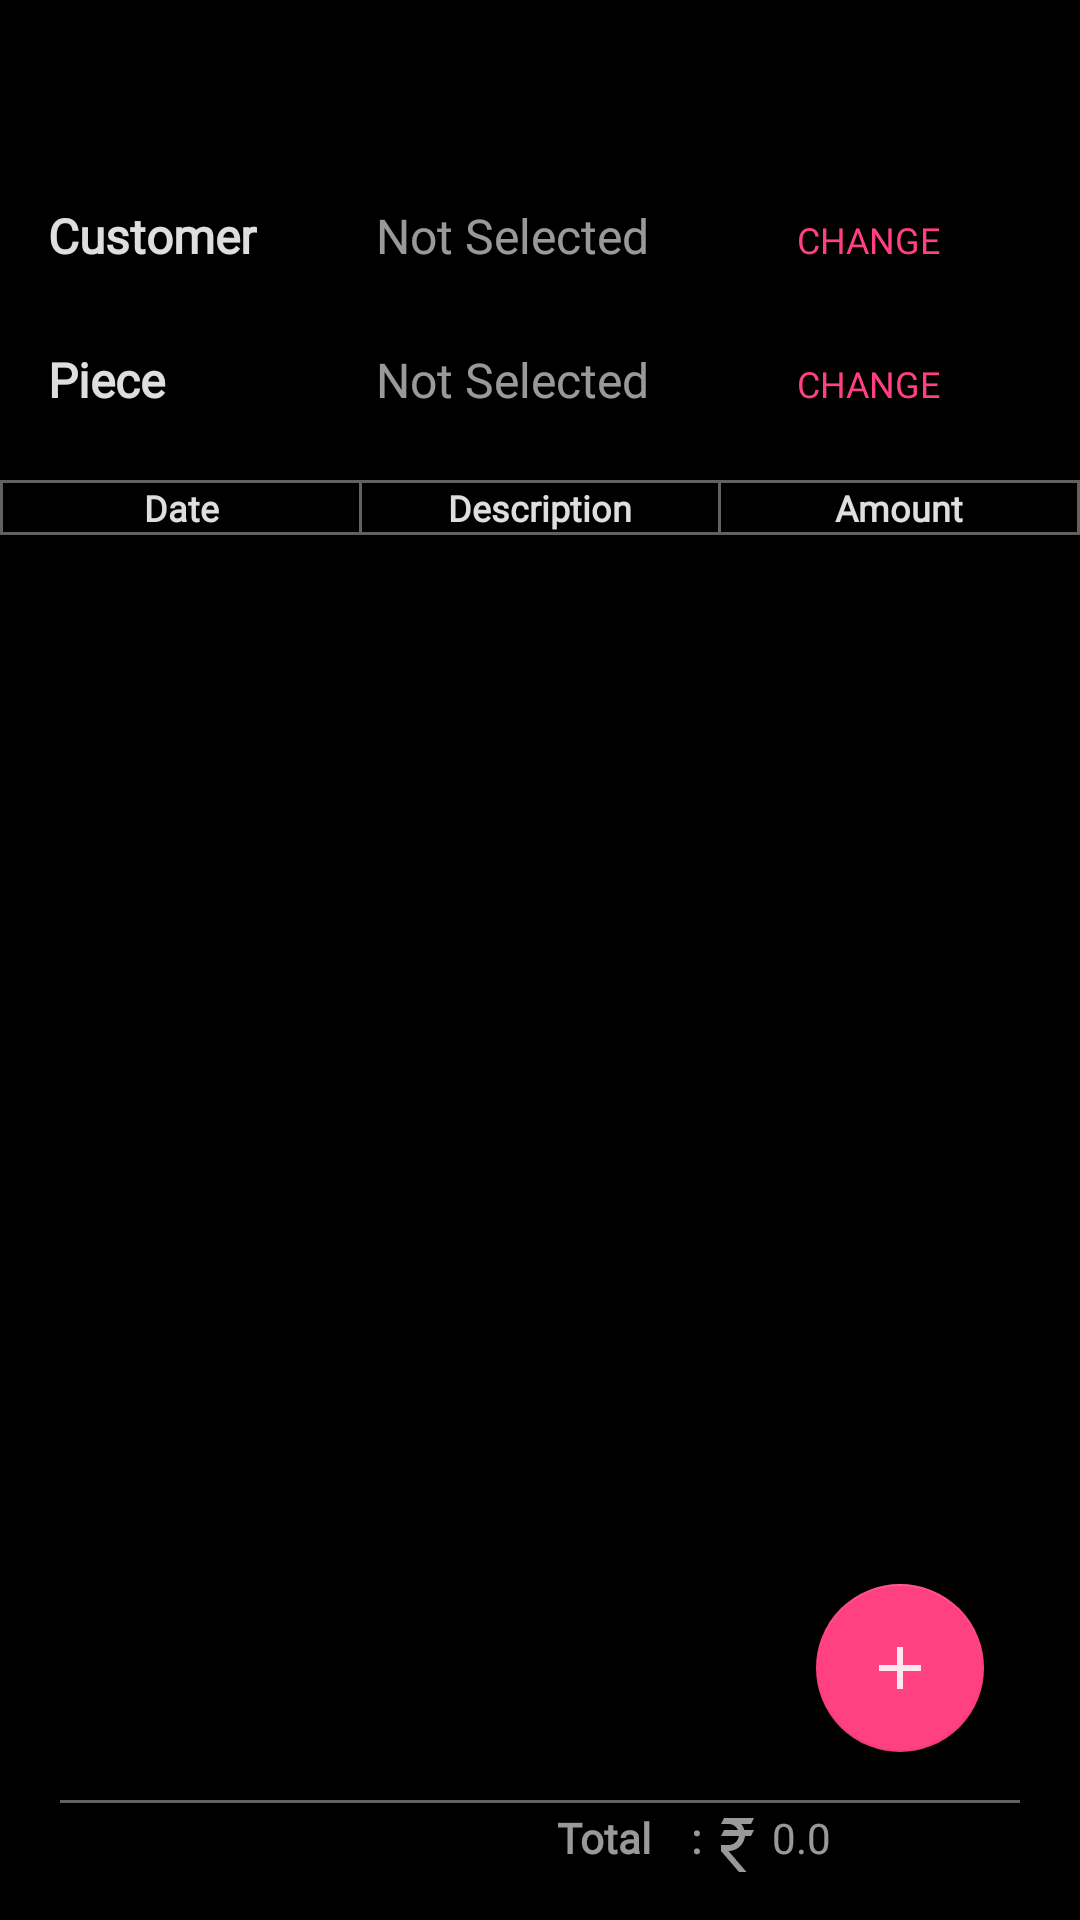

Screen size 1080*1920. Icon name, then its center in pixels as (x,y):
add: (900,1668)
